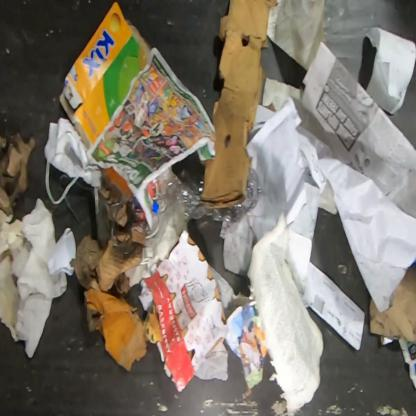cardboard: (200, 0, 278, 206), (138, 228, 232, 394), (57, 0, 151, 155), (70, 166, 146, 298), (82, 288, 164, 371), (370, 263, 415, 412), (0, 128, 46, 218)
rigid_plastic: (152, 168, 262, 223)
